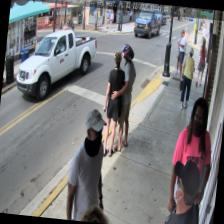person: (164, 93, 217, 224), (63, 106, 114, 224), (98, 51, 129, 156), (112, 44, 139, 152), (163, 158, 205, 224), (178, 47, 197, 107)
